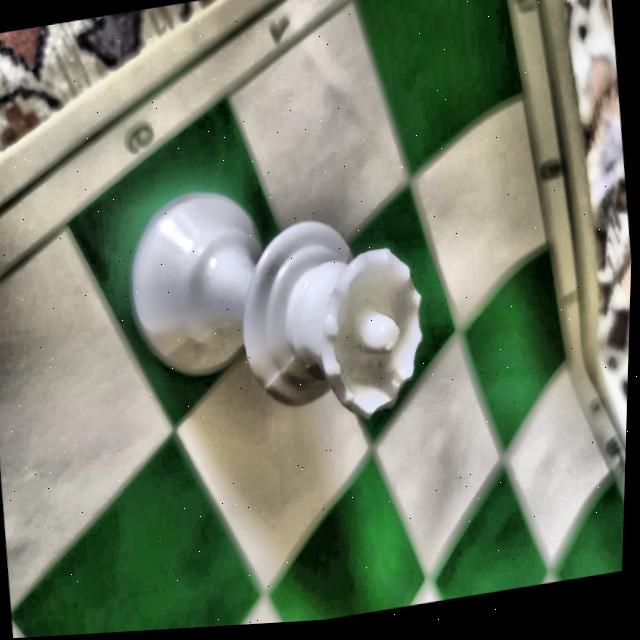WhiteQueen: (114, 149, 437, 458)
